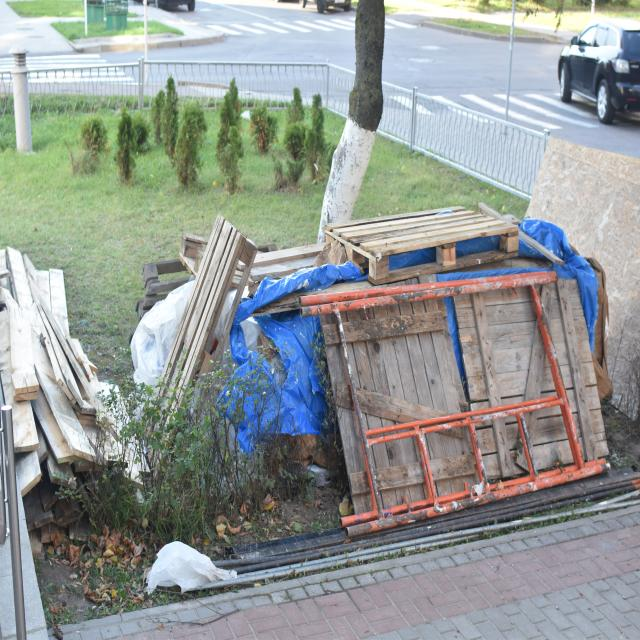entulho: (208, 224, 616, 530), (0, 241, 145, 532), (518, 131, 640, 424), (139, 212, 267, 475), (320, 202, 528, 280), (131, 226, 213, 320), (141, 539, 239, 602)
